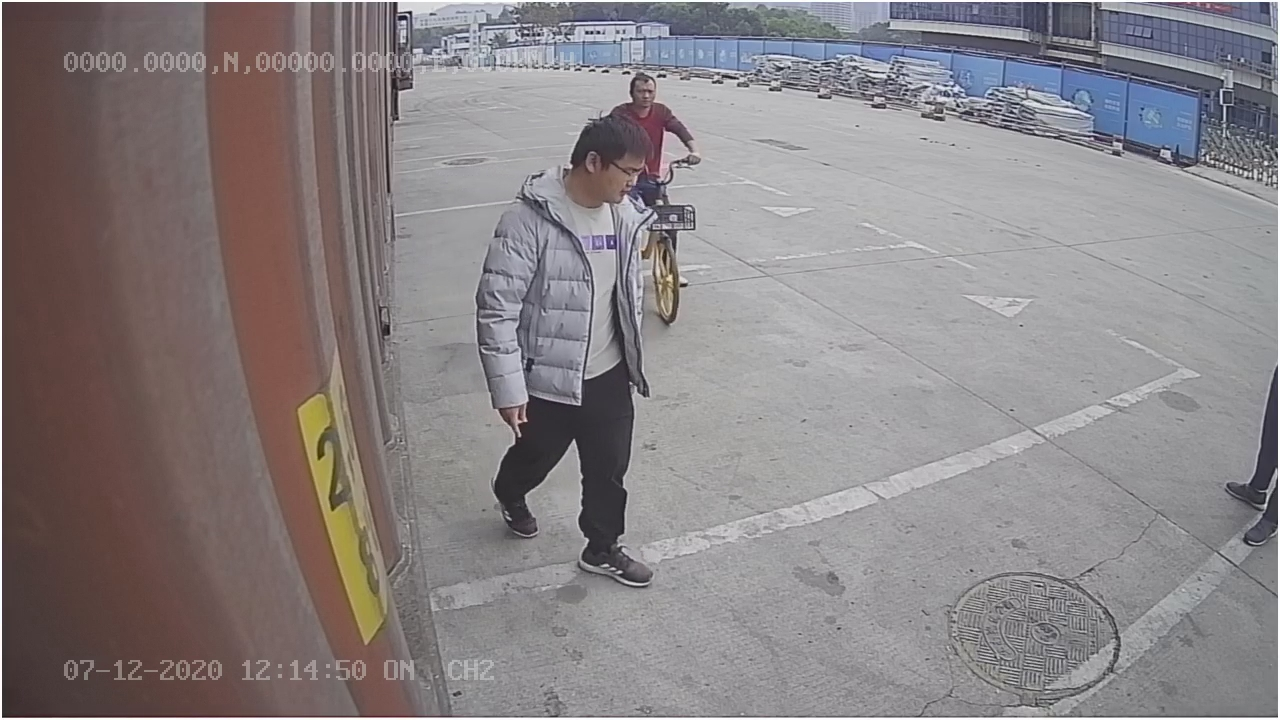person: (477, 115, 652, 586)
